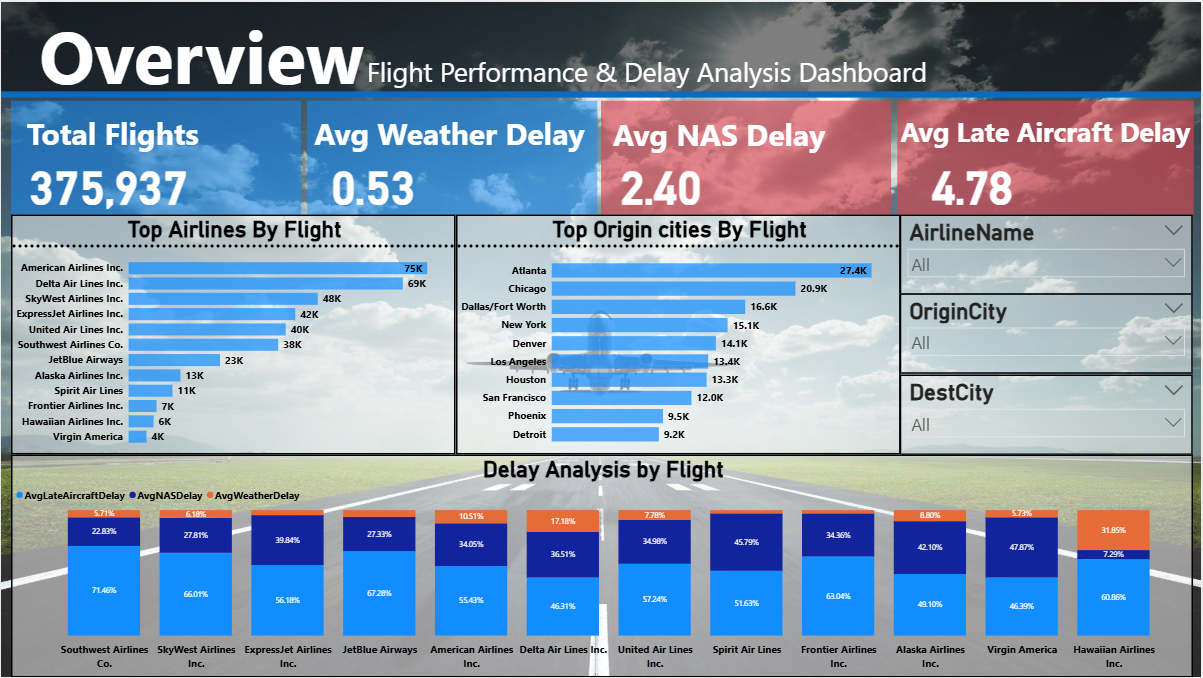

The dashboard page shown, as its layout file describes it:
{"tool":"powerbi","page":{"name":"Executive Overview","canvas":[1920,1080],"ordinal":0},"visuals":[{"type":"textbox","box":[0,0,1920,148],"z":0},{"type":"shape","box":[0,138,1920,20],"z":1000},{"type":"textbox","box":[56.1,0,539.3,171.9],"z":2000},{"type":"actionButton","box":[16,158,464,182],"z":3000},{"type":"textbox","box":[36,172,292,78],"z":4000},{"type":"card","fields":{"Values":["Sum(airline vw_flight_analysis.TotalFlights)"]},"box":[16,234,312,106],"z":5000},{"type":"actionButton","box":[1433.3,157.4,474.1,182.8],"z":6000},{"type":"actionButton","box":[960,158,464,182],"z":7000},{"type":"actionButton","box":[490,158,464,182],"z":8000},{"type":"textbox","box":[496,172,464,76],"z":9000},{"type":"card","fields":{"Values":["Avg(airline vw_flight_analysis.AvgWeatherDelay)"]},"box":[490,234,212,106],"z":10000},{"type":"textbox","box":[974,174,376,76],"z":11000},{"type":"textbox","box":[1433.3,171.9,481.4,121.2],"z":12000},{"type":"card","fields":{"Values":["Avg(airline vw_flight_analysis.AvgLateAircraftDelay)"]},"box":[1438,236,232,104],"z":13000},{"type":"card","fields":{"Values":["Avg(airline vw_flight_analysis.AvgNASDelay)"]},"box":[950,234,212,106],"z":14000},{"type":"textbox","box":[579.1,76,957.3,81.4],"z":15000},{"type":"clusteredBarChart","title":"Top Airlines By Flight","fields":{"Category":["airline vw_flight_analysis.AirlineName"],"Y":["Sum(airline vw_flight_analysis.TotalFlights)"]},"box":[16.3,340.2,711.2,383.6],"z":16000},{"type":"clusteredBarChart","title":"Top Origin cities By Flight","fields":{"Y":["Sum(airline vw_flight_analysis.TotalFlights)"],"Category":["airline vw_flight_analysis.OriginCity"]},"box":[727.5,340.2,711.2,383.6],"z":17000},{"type":"slicer","title":"Top Origin cities By Flight","fields":{"Values":["airline vw_flight_analysis.AirlineName"]},"box":[1438.7,340.2,468.7,128.5],"z":19000},{"type":"slicer","title":"Top Origin cities By Flight","fields":{"Values":["airline vw_flight_analysis.DestCity"]},"box":[1438.7,595.4,468.7,128.5],"z":20000},{"type":"slicer","title":"Top Origin cities By Flight","fields":{"Values":["airline vw_flight_analysis.OriginCity"]},"box":[1438.7,466.9,468.7,128.5],"z":21000},{"type":"hundredPercentStackedColumnChart","title":"Delay Analysis by Flight","fields":{"Y":["Sum(airline vw_flight_analysis.AvgLateAircraftDelay)","Sum(airline vw_flight_analysis.AvgNASDelay)","Sum(airline vw_flight_analysis.AvgWeatherDelay)"],"Category":["airline vw_flight_analysis.AirlineName"]},"box":[16.3,723.5,1891.1,356.5],"z":21001}]}

Visuals, with their boxes in screenshot pixels (x1, y1, x2, y2), scaled from the page's 1920x1080 canvas onto the 1203x678 screenshot:
textbox: <region>0, 0, 1202, 93</region>
shape: <region>0, 87, 1202, 99</region>
textbox: <region>35, 0, 373, 108</region>
actionButton: <region>10, 99, 301, 213</region>
textbox: <region>23, 108, 206, 157</region>
card - Sum(airline vw_flight_analysis.TotalFlights): <region>10, 147, 206, 213</region>
actionButton: <region>898, 99, 1195, 214</region>
actionButton: <region>602, 99, 892, 213</region>
actionButton: <region>307, 99, 598, 213</region>
textbox: <region>311, 108, 602, 156</region>
card - Avg(airline vw_flight_analysis.AvgWeatherDelay): <region>307, 147, 440, 213</region>
textbox: <region>610, 109, 846, 157</region>
textbox: <region>898, 108, 1200, 184</region>
card - Avg(airline vw_flight_analysis.AvgLateAircraftDelay): <region>901, 148, 1046, 213</region>
card - Avg(airline vw_flight_analysis.AvgNASDelay): <region>595, 147, 728, 213</region>
textbox: <region>363, 48, 963, 99</region>
"Top Airlines By Flight" clusteredBarChart: <region>10, 214, 456, 454</region>
"Top Origin cities By Flight" clusteredBarChart: <region>456, 214, 901, 454</region>
"Top Origin cities By Flight" slicer: <region>901, 214, 1195, 294</region>
"Top Origin cities By Flight" slicer: <region>901, 374, 1195, 454</region>
"Top Origin cities By Flight" slicer: <region>901, 293, 1195, 374</region>
"Delay Analysis by Flight" hundredPercentStackedColumnChart: <region>10, 454, 1195, 677</region>
